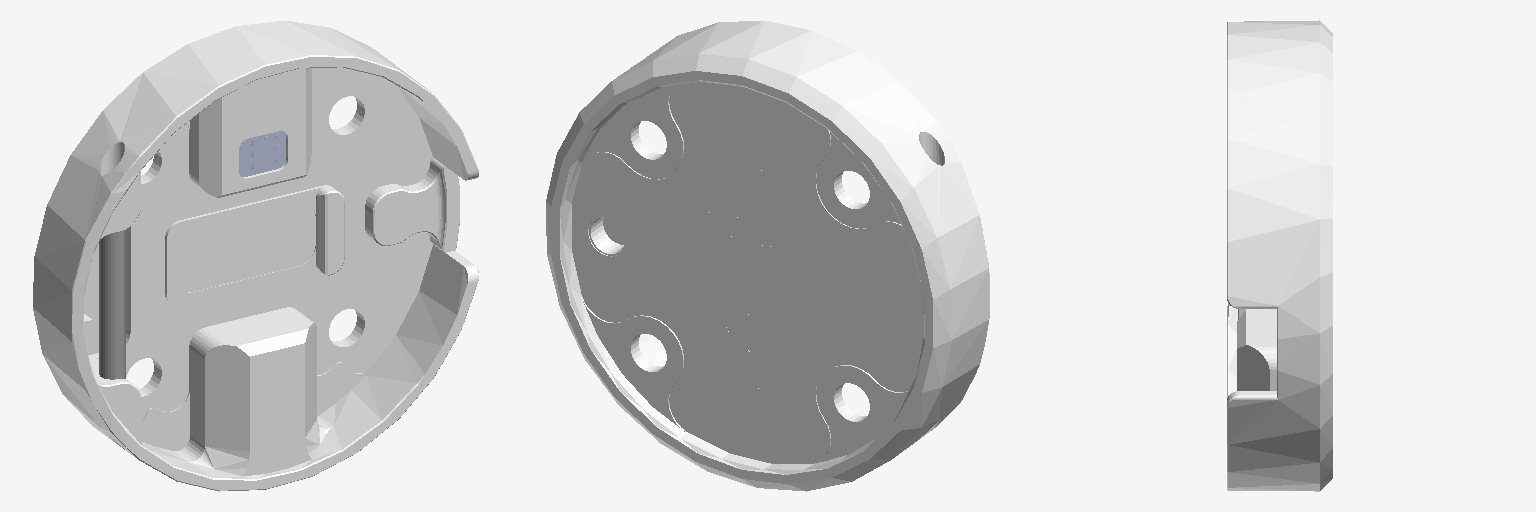
robot.urdf — sg-a:
<?xml version="1.0"?>
<!-- created with Phobos 1.0.1 "Capricious Choutengan" -->
  <robot name="sg-a">
  
    <link name="quick_change_robot_side">
      <inertial>
        <origin xyz="0 0 0" rpy="0 0 0"/>
        <mass value="0.001"/>
        <inertia ixx="0.001" ixy="0" ixz="0" iyy="0.001" iyz="0" izz="0.001"/>
      </inertial>
      <visual name="gripper">
        <origin xyz="0 0 0" rpy="0 0 0"/>
        <geometry>
          <mesh filename="package://onrobot_sg_a/../common/Quick_Changer_Robot Side_v2.dae" scale="1 1 1"/>
        </geometry>
        <material name="191,191,191"/>
      </visual>
    </link>
    
    <link name="gripper">
      <inertial>
        <origin xyz="0 0 0" rpy="0 0 0"/>
        <mass value="0.001"/>
        <inertia ixx="0.001" ixy="0" ixz="0" iyy="0.001" iyz="0" izz="0.001"/>
      </inertial>
      <visual name="gripper">
        <origin xyz="0 0 0" rpy="0 0 0"/>
        <geometry>
          <mesh filename="package://onrobot_sg_a/meshes/SG-a_v1.dae" scale="1 1 1"/>
        </geometry>
        <material name="191,191,191"/>
      </visual>
    </link>
    
    
   <joint name="quick_changer_to_gripper" type="fixed">
      <origin xyz="-0.0055 -.024 0.0075" rpy="0 0 -1.5708"/>
      <parent link="quick_change_robot_side"/>
      <child link="gripper"/>
    </joint>

  </robot>

--- Facts derived from the render (not from the file) ---
Views: 3 orthographic renders of the robot side by side, from view 1: azimuth 30°, elevation 25°; view 2: azimuth 150°, elevation 25°; view 3: azimuth 270°, elevation 25°.
Robot: sg-a — 2 links, 1 joints (1 fixed); root link quick_change_robot_side; default pose: every joint at zero.
Visible links, largest first — view 1: quick_change_robot_side; view 2: quick_change_robot_side; view 3: quick_change_robot_side.
Boxes of the visible links, left/top/right/bottom form: quick_change_robot_side: left=33, top=21, right=478, bottom=491; quick_change_robot_side: left=546, top=20, right=989, bottom=491; quick_change_robot_side: left=1227, top=20, right=1332, bottom=491.
Size in the robot's own frame: 0.0708 by 0.0161 by 0.071 metres.
1 mesh visuals loaded from 2 distinct referenced files (1 Collada DAE); not drawn: 1 (reference not matched to a file when rendering).